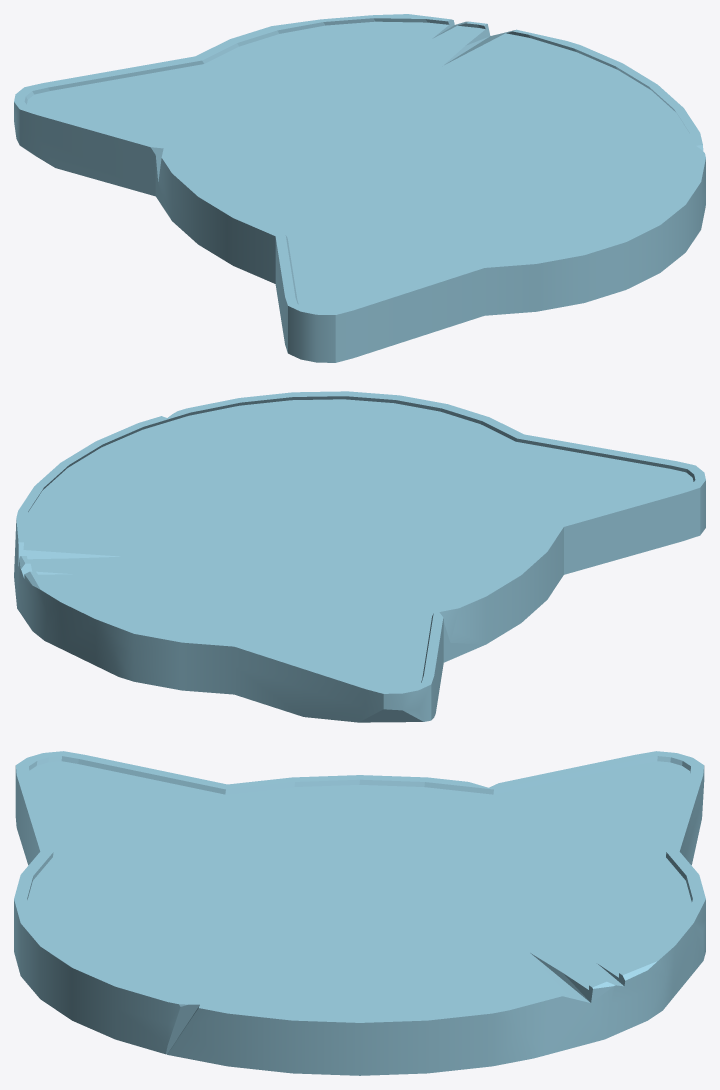
File: platforma_kotek.fbx
The picture shows the model from 3 angles, top to bottom: view 1: azimuth 30°, elevation 25°; view 2: azimuth 150°, elevation 25°; view 3: azimuth 270°, elevation 25°; orthographic projection. The views are drawn at different scales.
Parts seen in each view (by area): view 1: platforma_kotek; view 2: platforma_kotek; view 3: platforma_kotek.
Boxes of the visible parts, x1,y1,x2,y2 form: platforma_kotek: [14, 14, 705, 362]; platforma_kotek: [14, 391, 705, 722]; platforma_kotek: [14, 751, 705, 1075].
Size of the model in its own units: 186 by 16.86 by 200.
